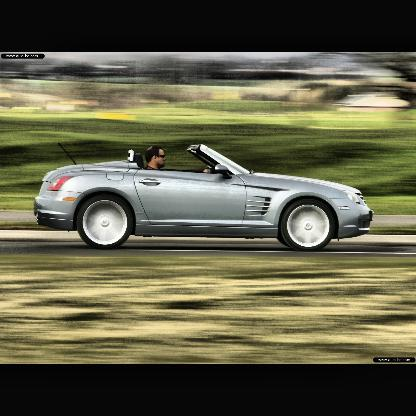Chrysler Crossfire Convertible 2008: (36, 143, 373, 253)
